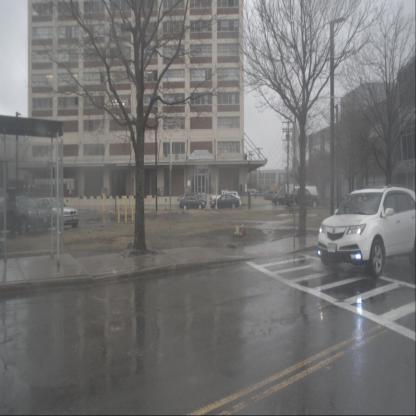vehicle-car: (317, 185, 416, 277), (0, 196, 52, 235), (30, 197, 80, 229), (210, 195, 240, 210), (291, 186, 318, 202), (182, 192, 207, 208), (180, 195, 206, 210), (272, 193, 292, 205), (264, 190, 278, 200)
vehicle-truck: (285, 188, 319, 209), (210, 190, 235, 205), (276, 185, 286, 201)
